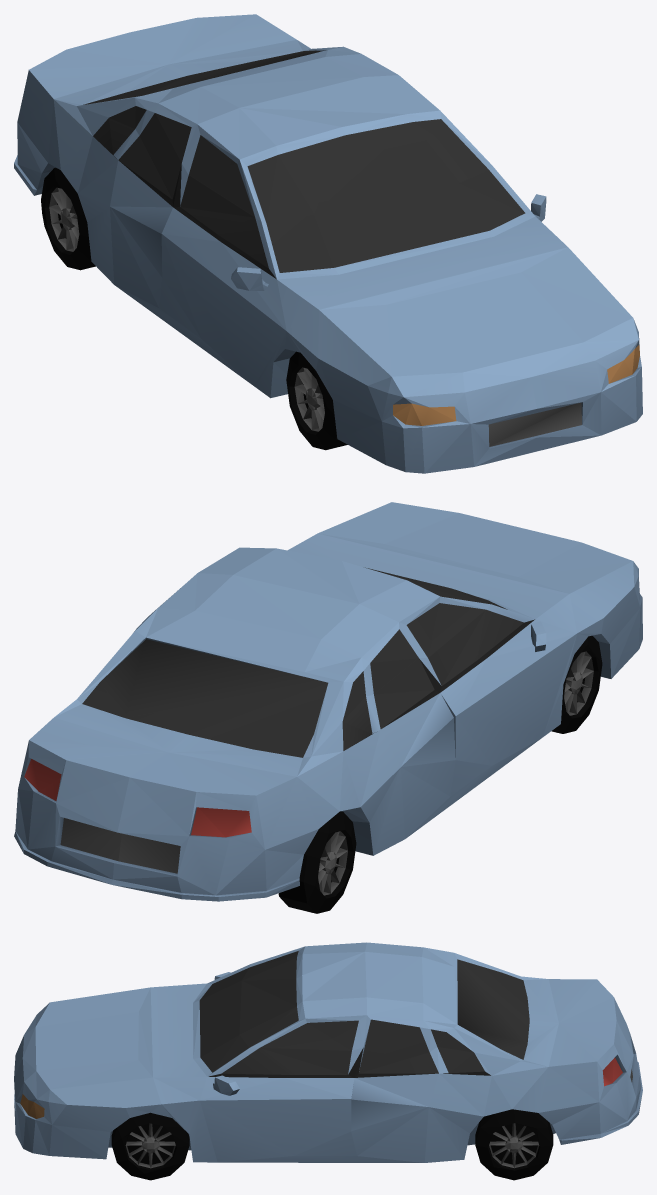
The model's file is car-1.glb.
3 renders of one model, top to bottom at view 1: azimuth 30°, elevation 25°; view 2: azimuth 150°, elevation 25°; view 3: azimuth 270°, elevation 25°, orthographic. The views are drawn at different scales.
Visible parts, largest first — view 1: car-1; view 2: car-1; view 3: car-1.
Boxes of the visible parts, x1,y1,x2,y2 form: car-1: (14,14,642,473); car-1: (14,502,642,913); car-1: (14,942,642,1180).
Bounding box in the file's own units: 2.22 × 1.45 × 5.19.
